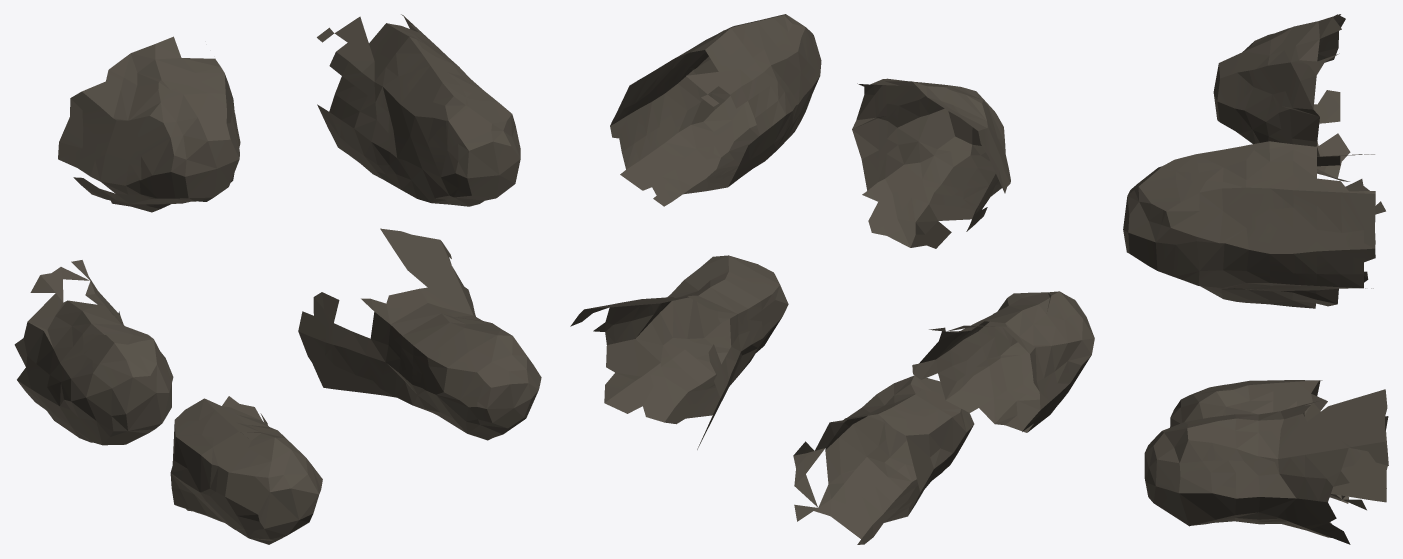
Rendered from Rocks.glb.
3 renders of one model, left to right at view 1: azimuth 30°, elevation 25°; view 2: azimuth 150°, elevation 25°; view 3: azimuth 270°, elevation 25°, orthographic. The views are drawn at different scales.
Parts seen in each view (by area): view 1: Rocks; view 2: Rocks; view 3: Rocks.
Boxes of the visible parts, x1,y1,x2,y2 form: Rocks: (14,14,541,544); Rocks: (570,14,1094,544); Rocks: (1123,14,1388,544).
Bounding box in the file's own units: 10.53 × 10.61 × 5.5.
1 material, 1 textured.
